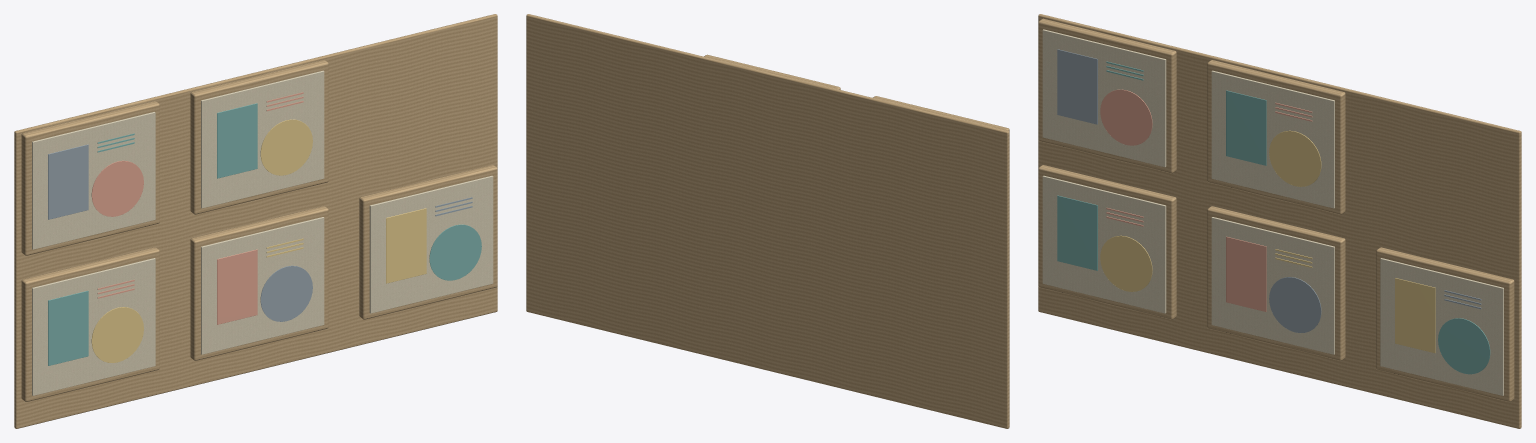
Rendered from art-wall-dressed-v1.glb.
The picture shows the model from 3 angles, left to right: view 1: azimuth 30°, elevation 25°; view 2: azimuth 150°, elevation 25°; view 3: azimuth 330°, elevation 25°; orthographic projection.
Parts seen in each view (by area): view 1: Gallery mounting board; view 2: Gallery mounting board; view 3: Gallery mounting board.
Boxes of the visible parts, x1,y1,x2,y2 form: Gallery mounting board: [14, 14, 497, 428]; Gallery mounting board: [526, 14, 1009, 428]; Gallery mounting board: [1038, 14, 1521, 428].
Bounding box in the file's own units: 3.14 × 1.85 × 0.102.
6 materials, 2 textured.
